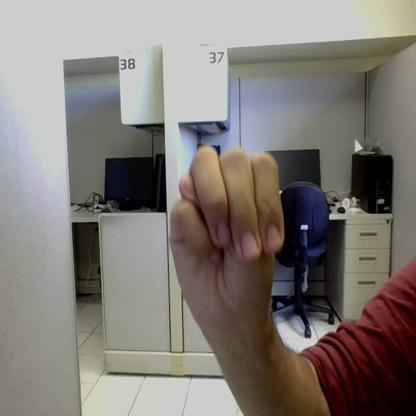M: (170, 147, 284, 305)
